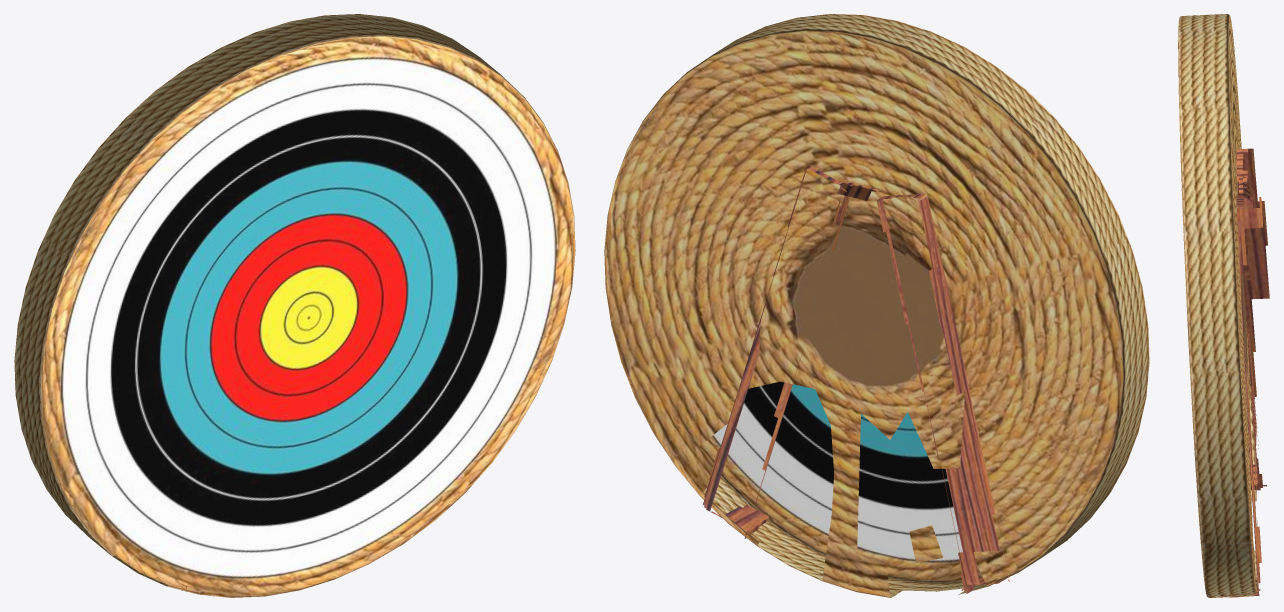
Rendered from cible.glb.
The picture shows the model from 3 angles, left to right: view 1: azimuth 30°, elevation 25°; view 2: azimuth 150°, elevation 25°; view 3: azimuth 270°, elevation 25°; orthographic projection. The views are drawn at different scales.
Visible parts, largest first — view 1: 10480_Archery_target_v1_max2011_iteration-2; view 2: 10480_Archery_target_v1_max2011_iteration-2; view 3: 10480_Archery_target_v1_max2011_iteration-2.
Part boxes in pixels (x1,y1,x2,y2): 10480_Archery_target_v1_max2011_iteration-2: (14,14,575,597); 10480_Archery_target_v1_max2011_iteration-2: (604,14,1149,597); 10480_Archery_target_v1_max2011_iteration-2: (1178,14,1269,597).
Bounding box in the file's own units: 76.65 × 76.83 × 12.05.
Materials: 1 (1 with a texture image).
